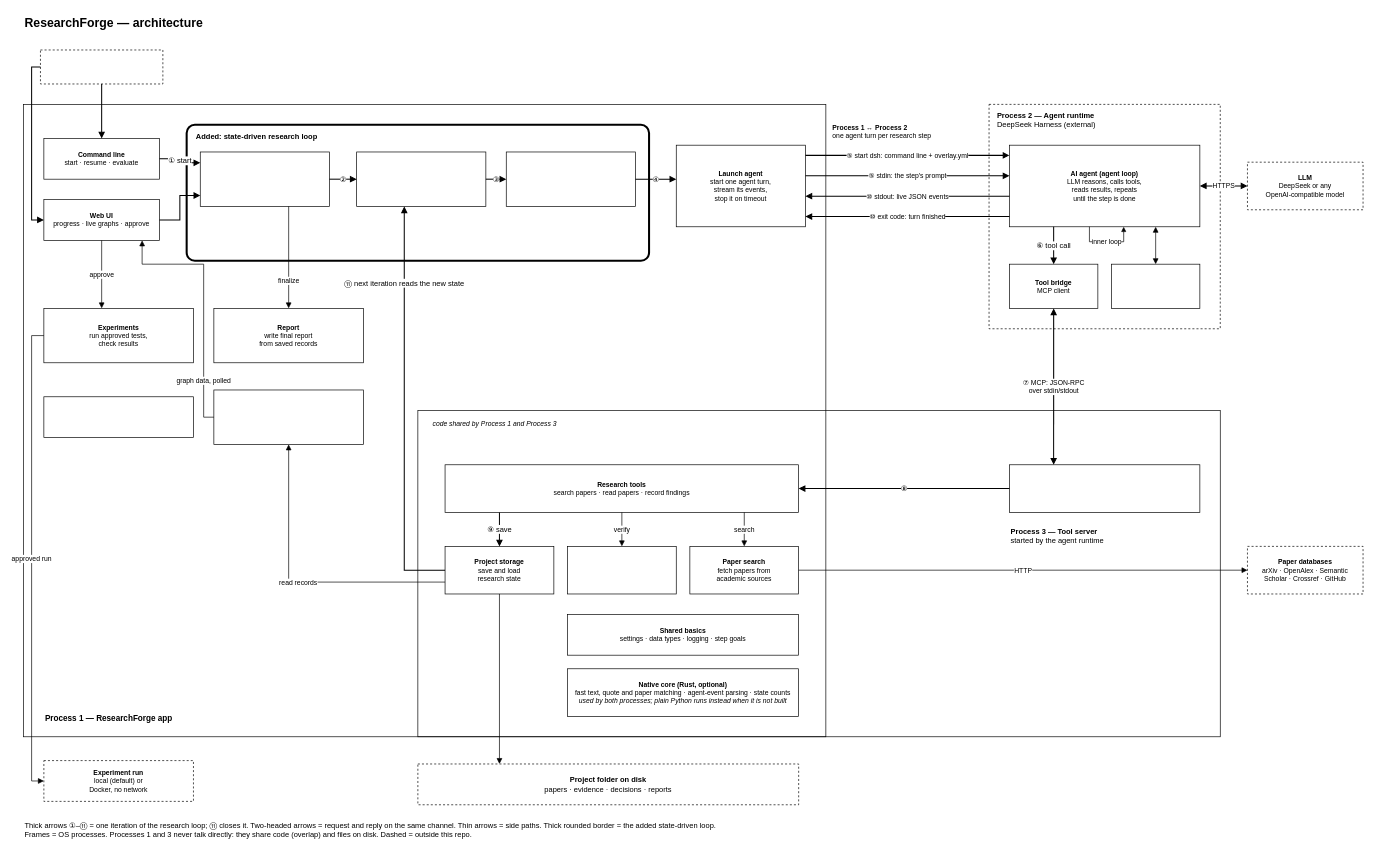
This 1382x858 diagram has some shape labels left out. The shapes that lost their labels are listed below. From the top down, each one's centre as x and y in pixels, then its label:
point 101,66: Researcher terminal / browser
point 264,178: Run loop one research step per iteration
point 421,178: Decide next step pick an action, know when to stop
point 570,178: Build prompt instructions for the chosen step
point 1155,286: Conversation history saved on disk, reloaded each turn
point 118,417: Evaluation score and benchmark runs
point 288,416: Graph analytics novelty · similarity · concept network · timeline · grounding
point 1104,488: Tool server exposes research tools
point 621,570: Evidence checks verify quotes against papers
